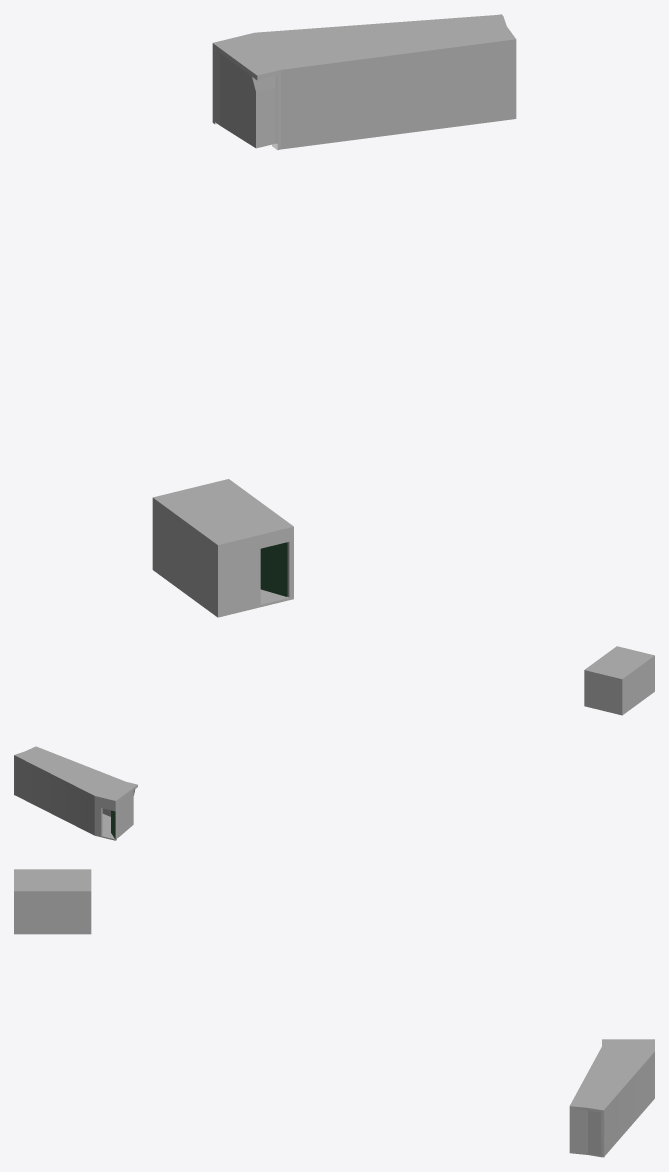
The model's file is MSH_Elevador.FBX.
3 renders of one model, top to bottom at view 1: azimuth 30°, elevation 25°; view 2: azimuth 150°, elevation 25°; view 3: azimuth 270°, elevation 25°, orthographic. The views are drawn at different scales.
Parts seen in each view (by area): view 1: MSH_Elevador, MSH_Elevador.001; view 2: MSH_Elevador, MSH_Elevador.001; view 3: MSH_Elevador, MSH_Elevador.001.
Part boxes in pixels (box(x1,y1,x2,y2)): MSH_Elevador: box(212, 14, 516, 150); MSH_Elevador.001: box(152, 479, 293, 617); MSH_Elevador: box(14, 746, 137, 840); MSH_Elevador.001: box(584, 646, 654, 715); MSH_Elevador: box(569, 1039, 654, 1157); MSH_Elevador.001: box(14, 869, 91, 934).
Bounding box in the file's own units: 3392 × 435 × 4067.
